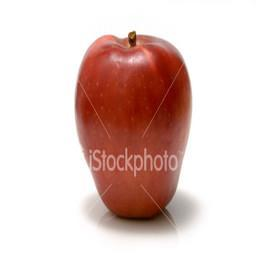apple: (72, 30, 192, 223)
